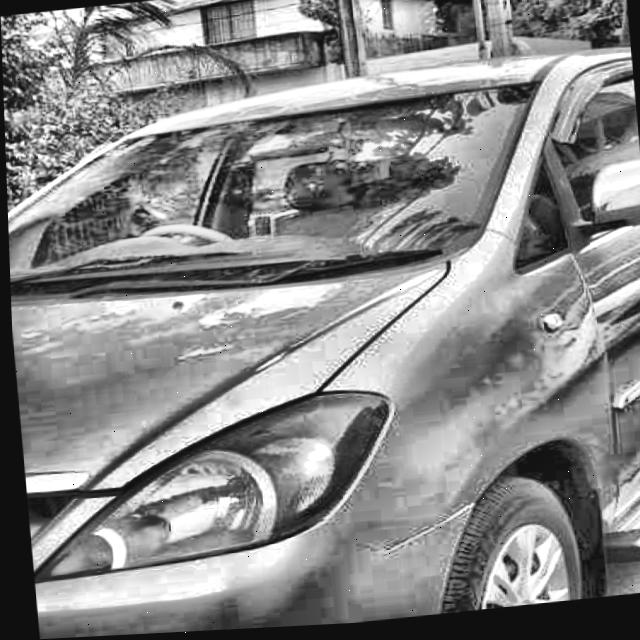light_vehicle: (2, 42, 640, 640)
